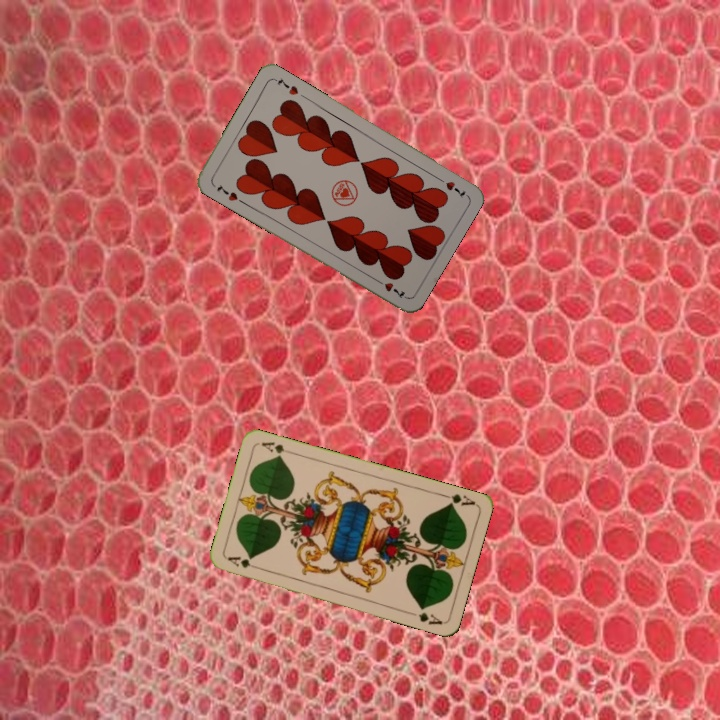GA: (438, 489, 478, 509), (224, 552, 263, 572)
H7: (433, 172, 468, 201), (213, 180, 241, 204)
